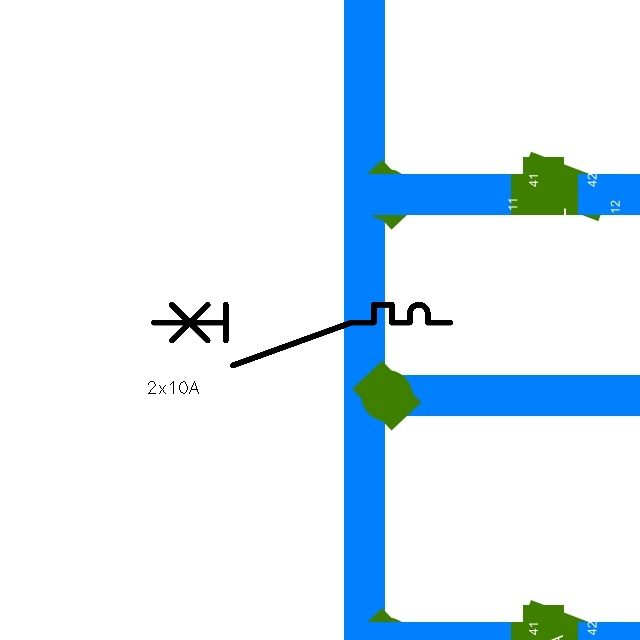interruptor_termomagnetico: (146, 297, 458, 373)
